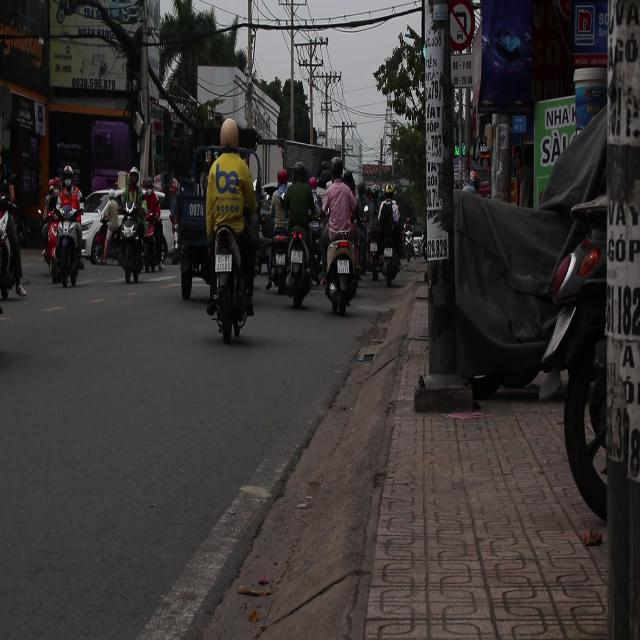motorbike: (203, 122, 261, 341), (42, 195, 88, 286), (322, 227, 364, 315), (274, 221, 316, 305), (0, 191, 27, 304), (112, 209, 148, 286), (261, 216, 293, 298), (87, 194, 123, 265), (381, 236, 403, 286)
